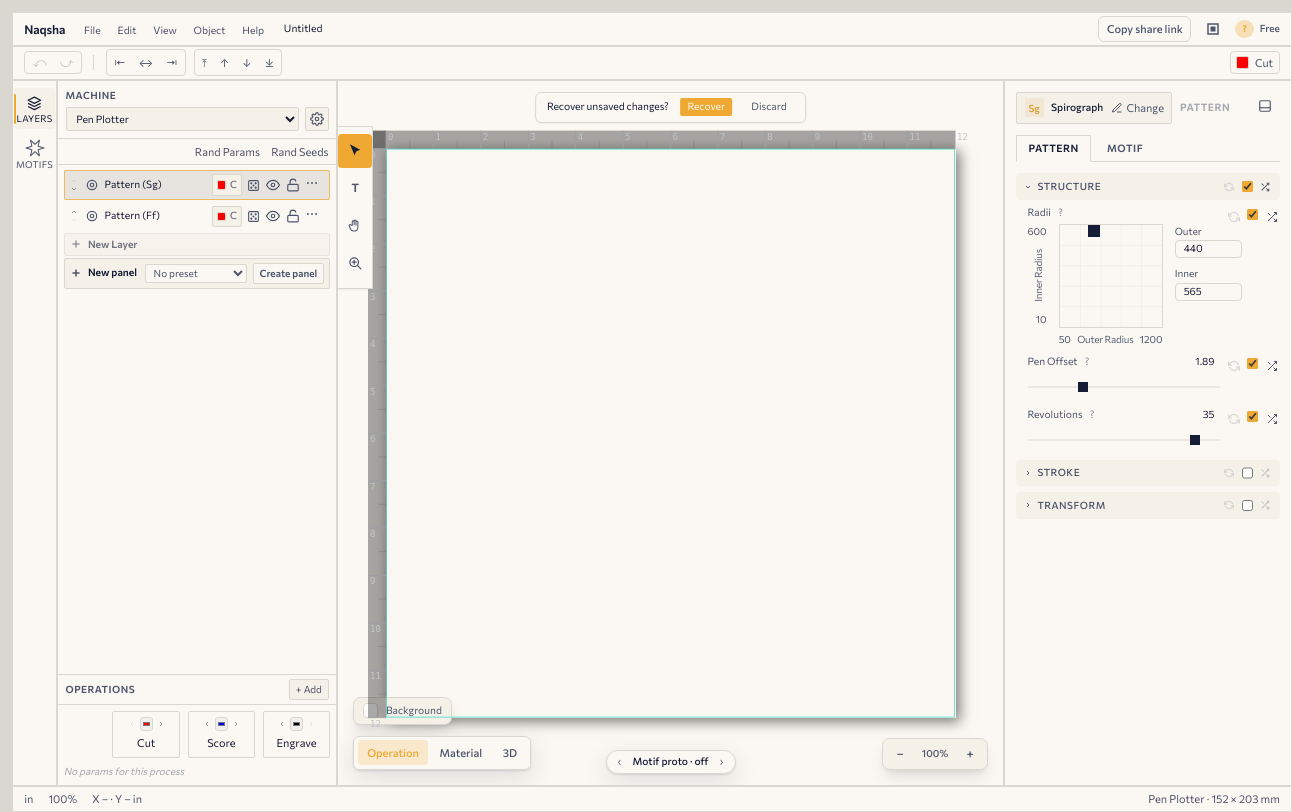
Test: StudioRoute — draft recovery banner (Rec 3 / B) › Discard dismisses the banner
Click the button "Discard". click: (769, 107)
box: [744,98,794,116]
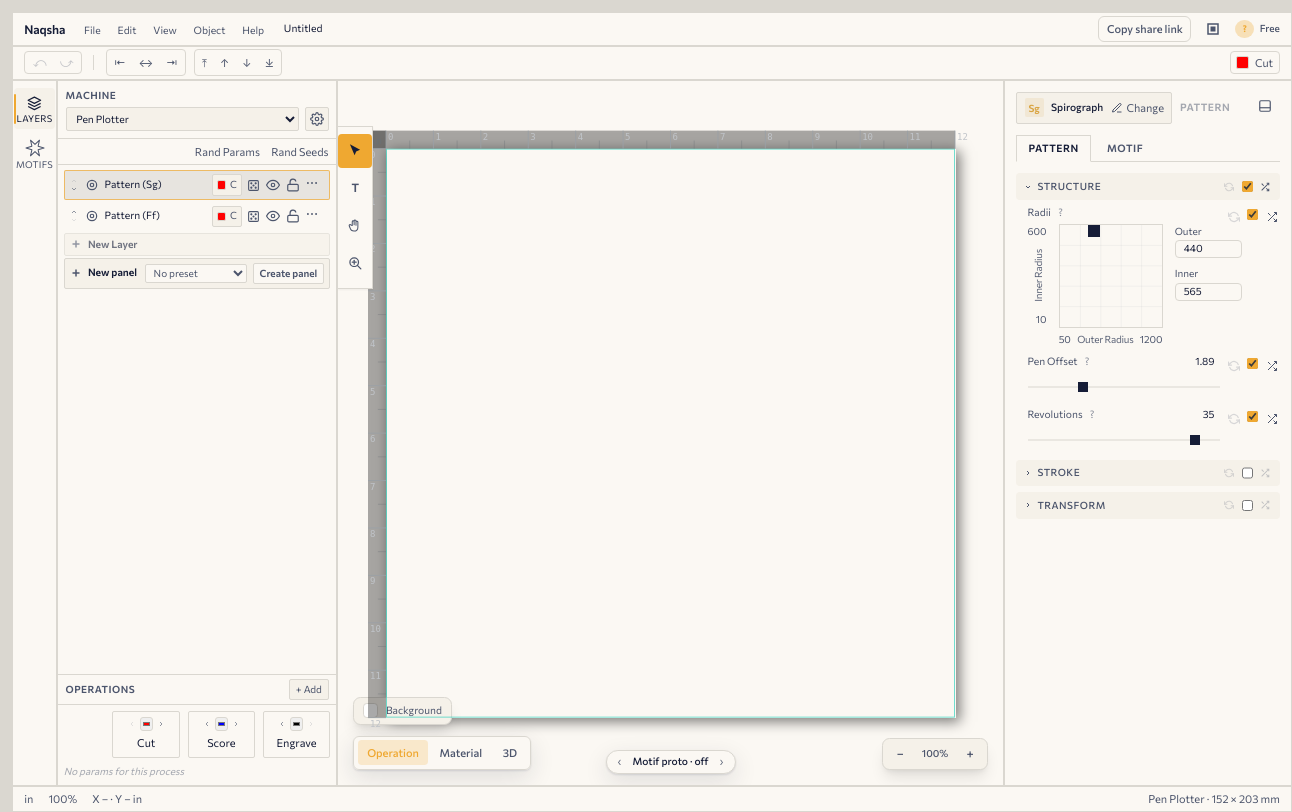
Check: the text "Recover unsaved changes?" is gone
